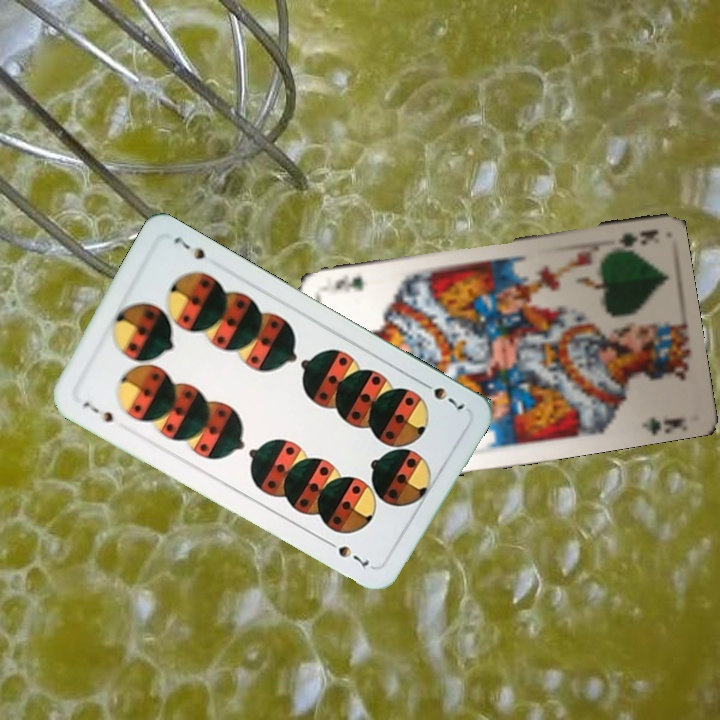GK: (614, 225, 660, 250)
S7: (416, 377, 468, 417), (79, 397, 117, 426)
